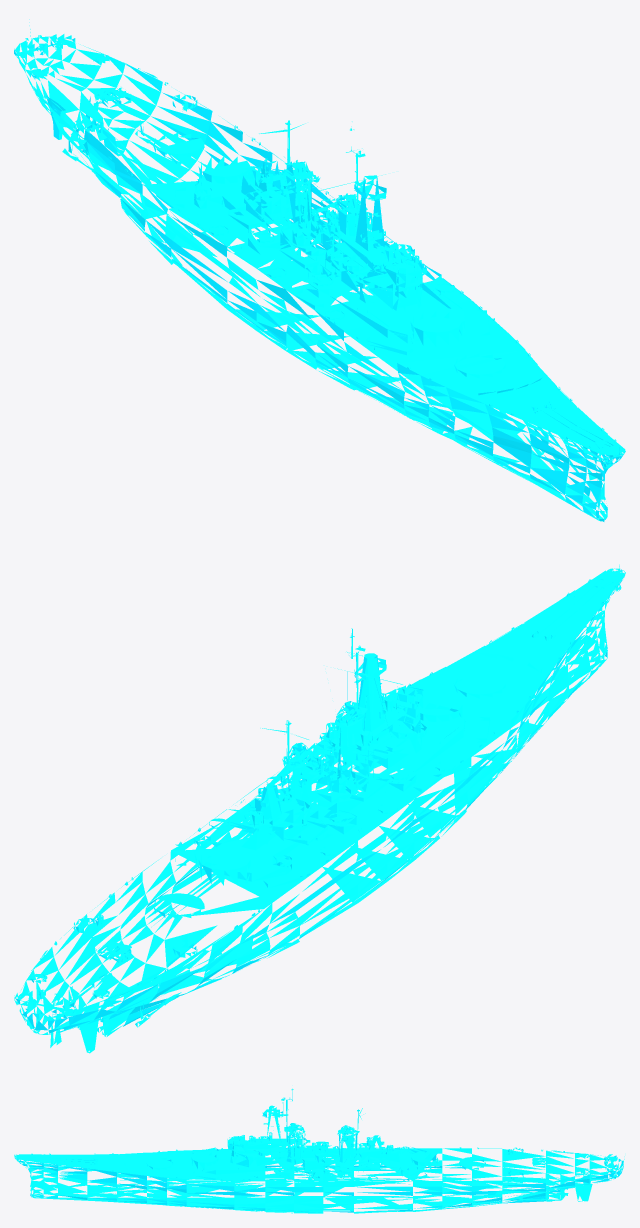
File: Ohio.glb
The picture shows the model from 3 angles, top to bottom: view 1: azimuth 30°, elevation 25°; view 2: azimuth 150°, elevation 25°; view 3: azimuth 270°, elevation 25°; orthographic projection. The views are drawn at different scales.
Size of the model in its own units: 2.43 by 3.8 by 18.78.
